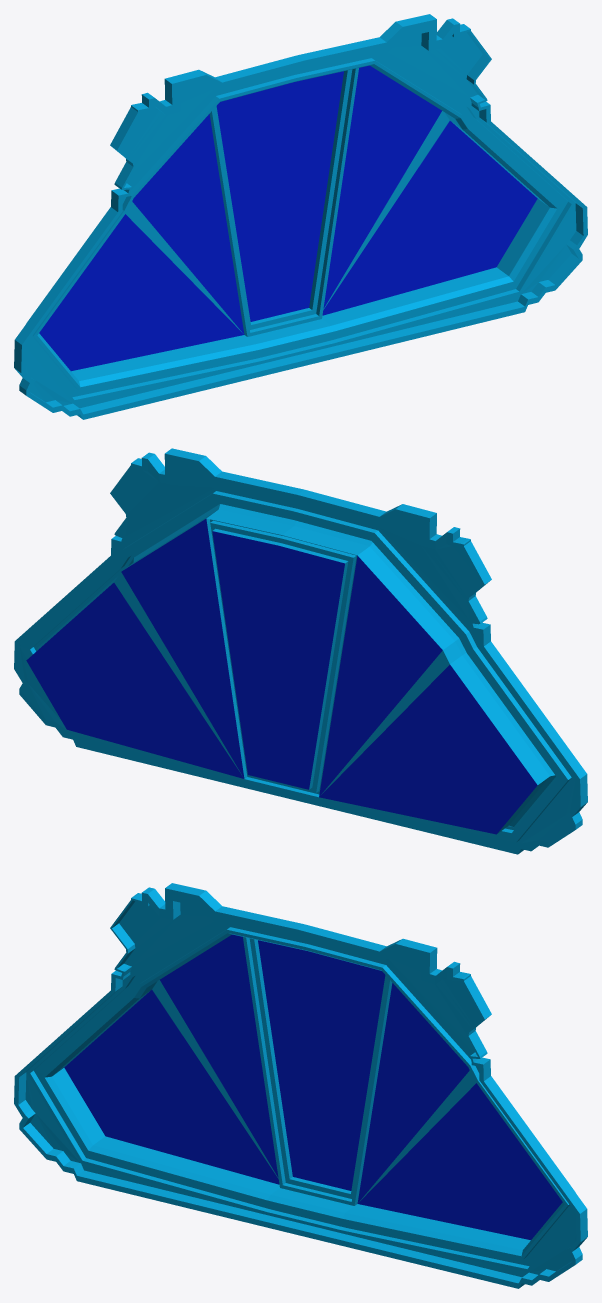
The model's file is SpaceShipDoor.fbx.
3 views of the same model, one above another, from view 1: azimuth 30°, elevation 25°; view 2: azimuth 150°, elevation 25°; view 3: azimuth 330°, elevation 25° (orthographic).
Parts seen in each view (by area): view 1: Suelo.001; view 2: Suelo.001; view 3: Suelo.001.
Boxes of the visible parts, x1=… form: Suelo.001: x1=14, y1=14, x2=587, y2=419; Suelo.001: x1=14, y1=448, x2=587, y2=854; Suelo.001: x1=14, y1=883, x2=587, y2=1288.
Bounding box in the file's own units: 3791 × 2016 × 302.
